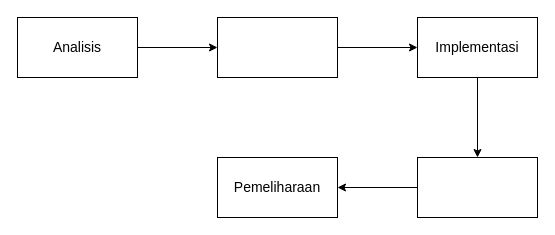
The diagram is 555 pixels wide and 235 high, and some of its shapes have lost their labels. The centre of each missing label's shape, as x and y in pixels:
"Desain" goes at [277,47].
"Pengujian" goes at [477,187].
